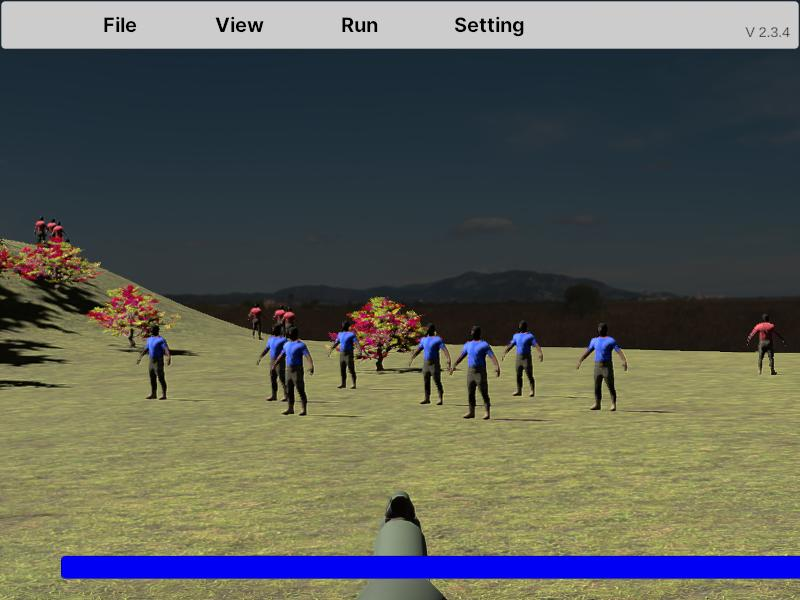Human: (450, 325, 500, 420), (577, 322, 627, 412), (270, 326, 314, 415), (272, 325, 315, 416), (409, 324, 452, 406), (503, 320, 544, 397), (258, 323, 296, 403), (137, 323, 171, 401), (747, 313, 786, 376), (329, 320, 363, 389)
